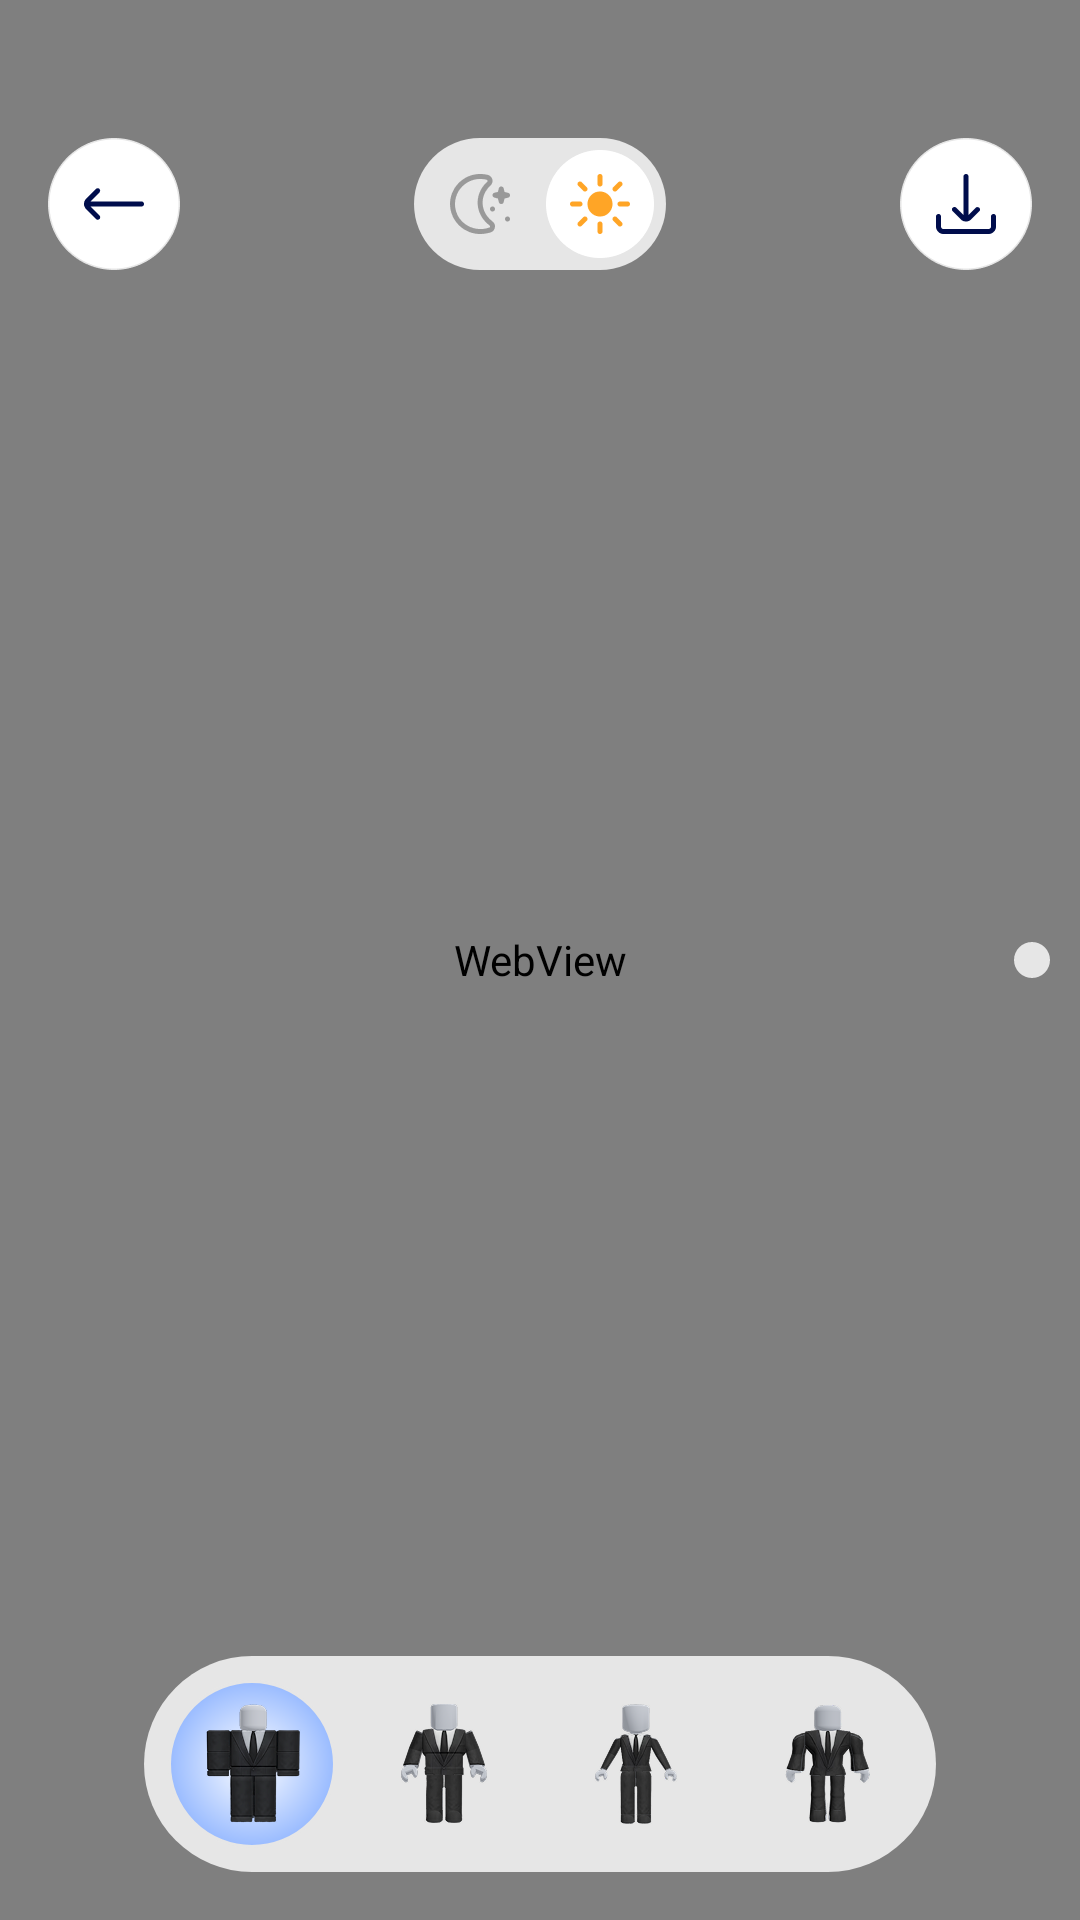

Screen size 1080*1920. Icon name, then its box in pixels as (x1, y1, x2, y2):
back: (48, 138, 180, 270)
download: (900, 138, 1032, 270)
